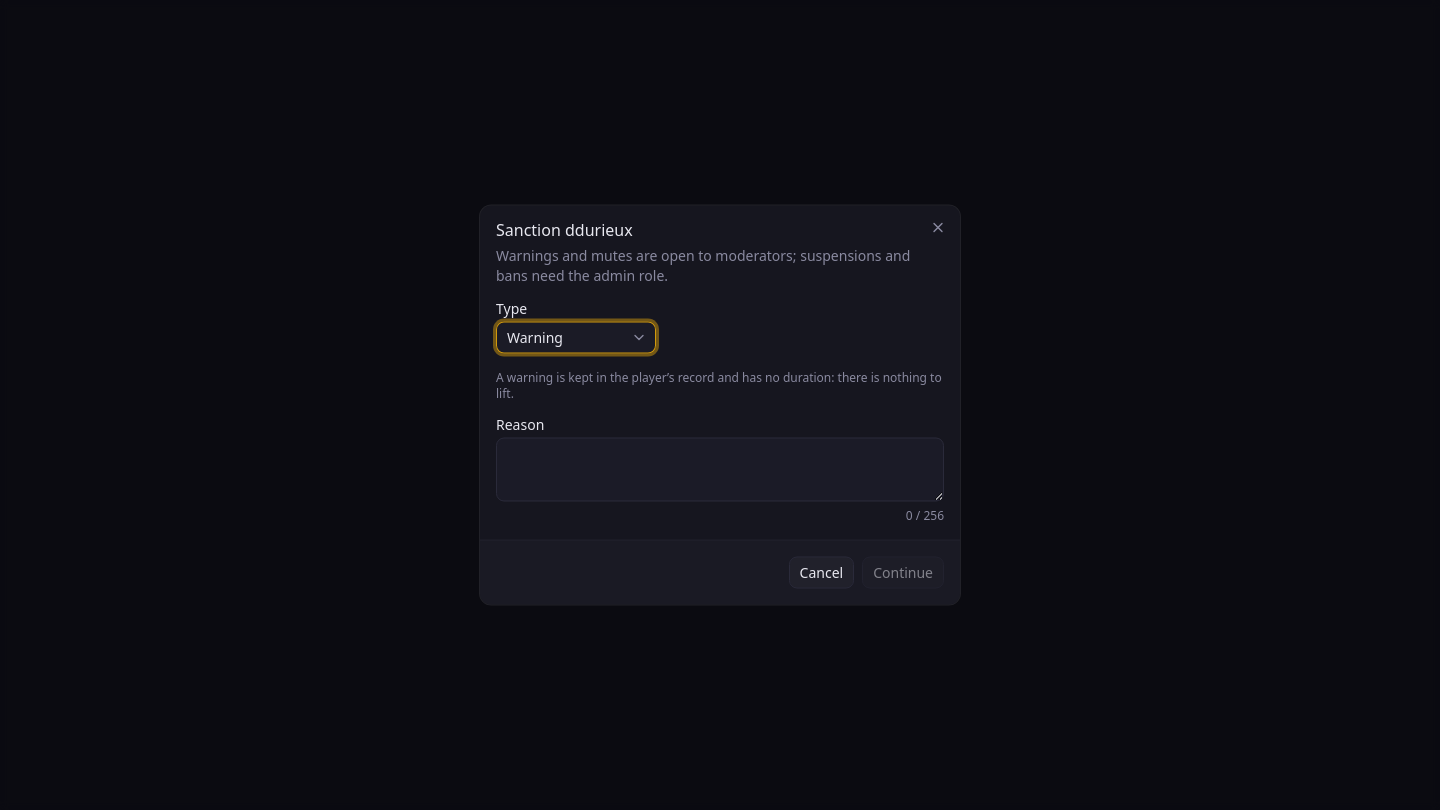
Test: SanctionDialog › offers suspension and ban to admins
Click the dropdown.
click(576, 338)  # box left=496, top=322, right=656, bottom=354
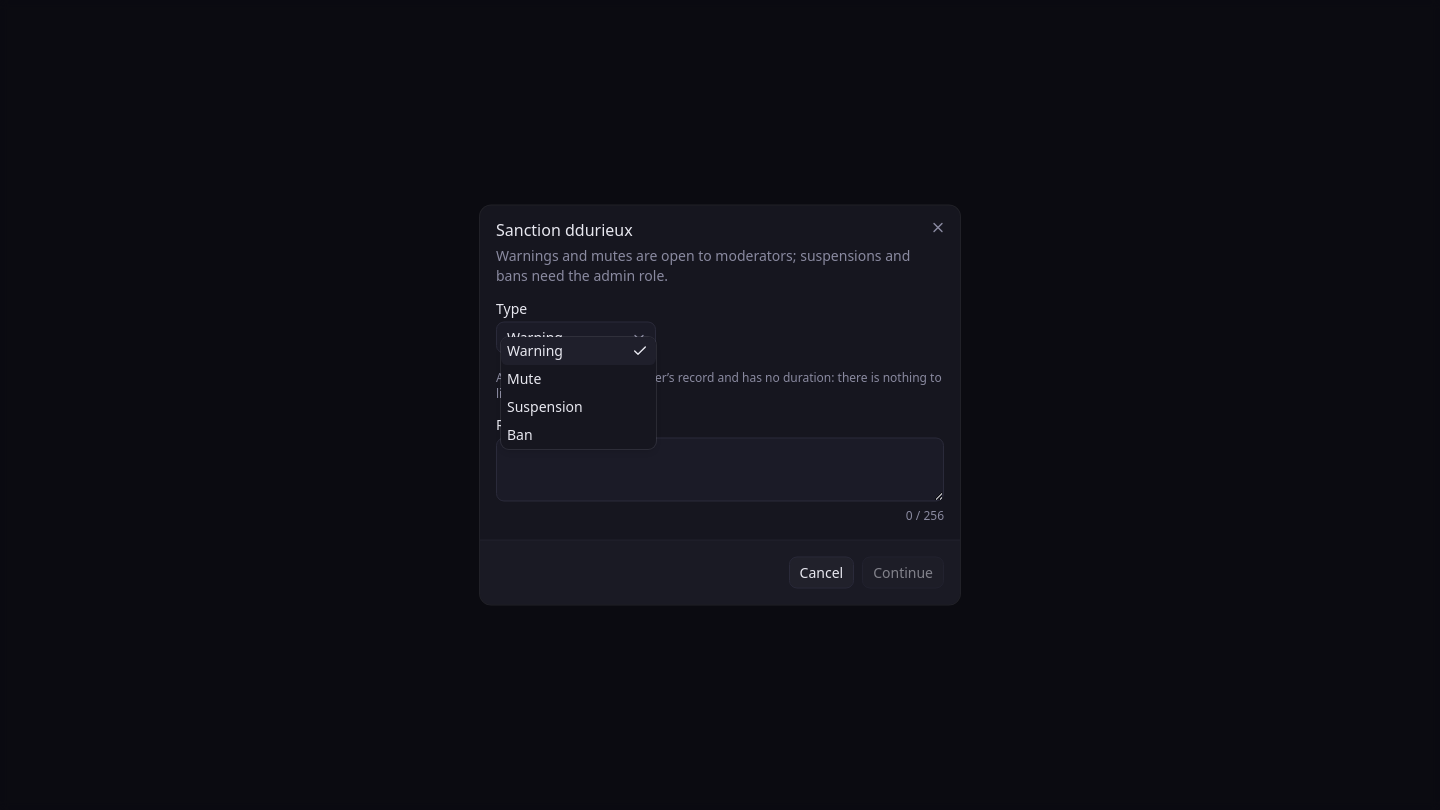
expect the options read "Warning", "Mute", "Suspension", "Ban", in this order: met, box left=501, top=337, right=656, bottom=365; left=507, top=369, right=541, bottom=388; left=507, top=397, right=583, bottom=416; left=507, top=425, right=533, bottom=444
